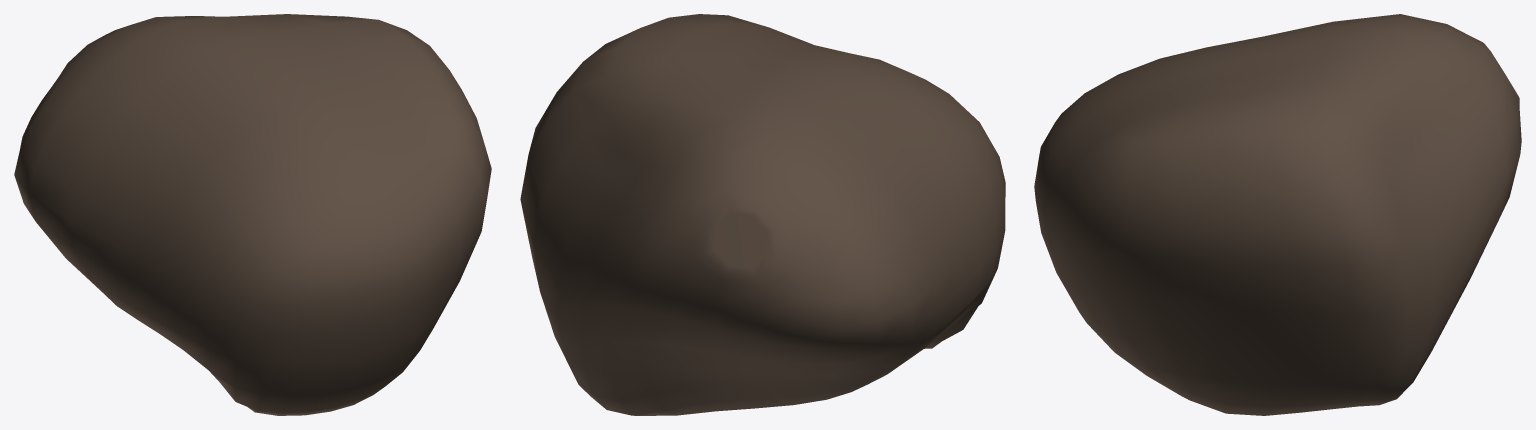
Rendered from Rock_Large_2.fbx.
The picture shows the model from 3 angles, left to right: view 1: azimuth 30°, elevation 25°; view 2: azimuth 150°, elevation 25°; view 3: azimuth 270°, elevation 25°; orthographic projection. The views are drawn at different scales.
Parts seen in each view (by area): view 1: pCube1; view 2: pCube1; view 3: pCube1.
Part boxes in pixels (box(x1,y1,x2,y2)): pCube1: box(14, 14, 491, 415); pCube1: box(520, 14, 1005, 415); pCube1: box(1034, 14, 1521, 415).
Bounding box in the file's own units: 1978 × 1638 × 2156.
